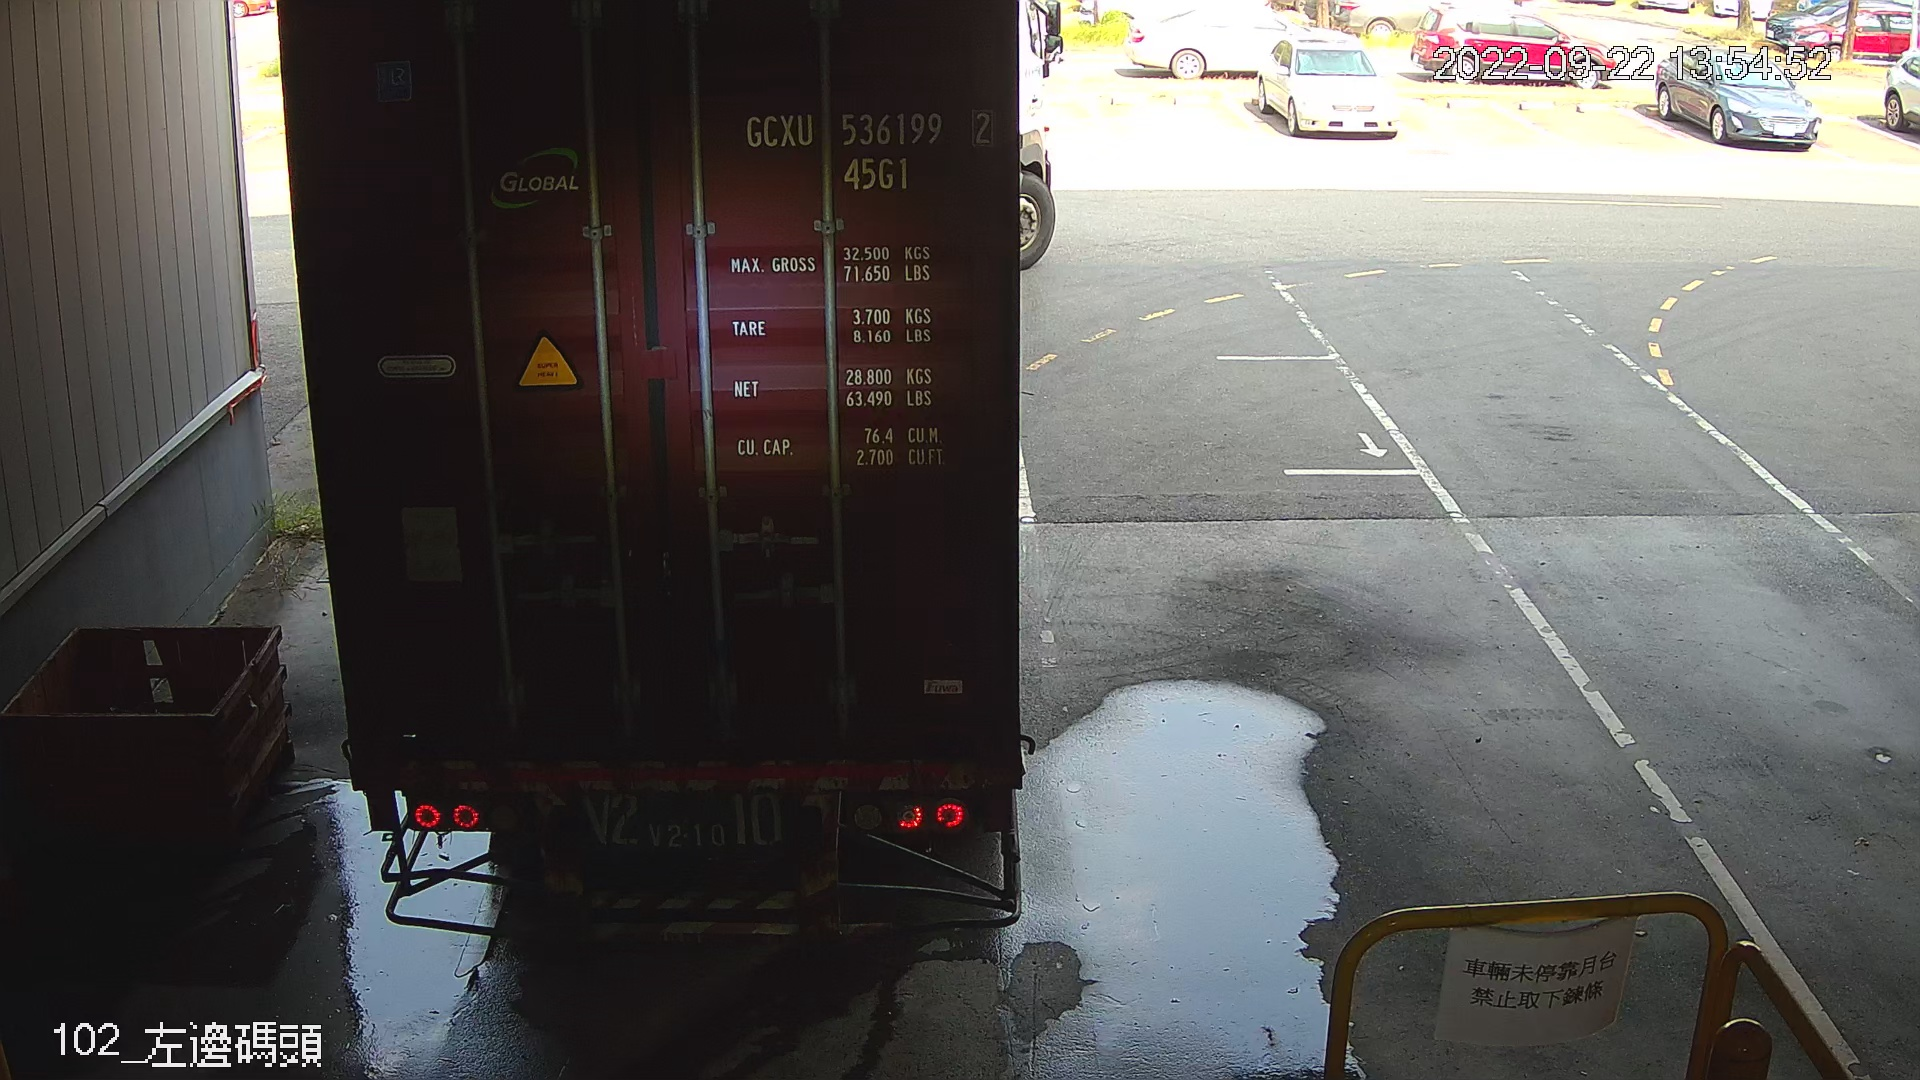container: (727, 91, 1001, 200)
